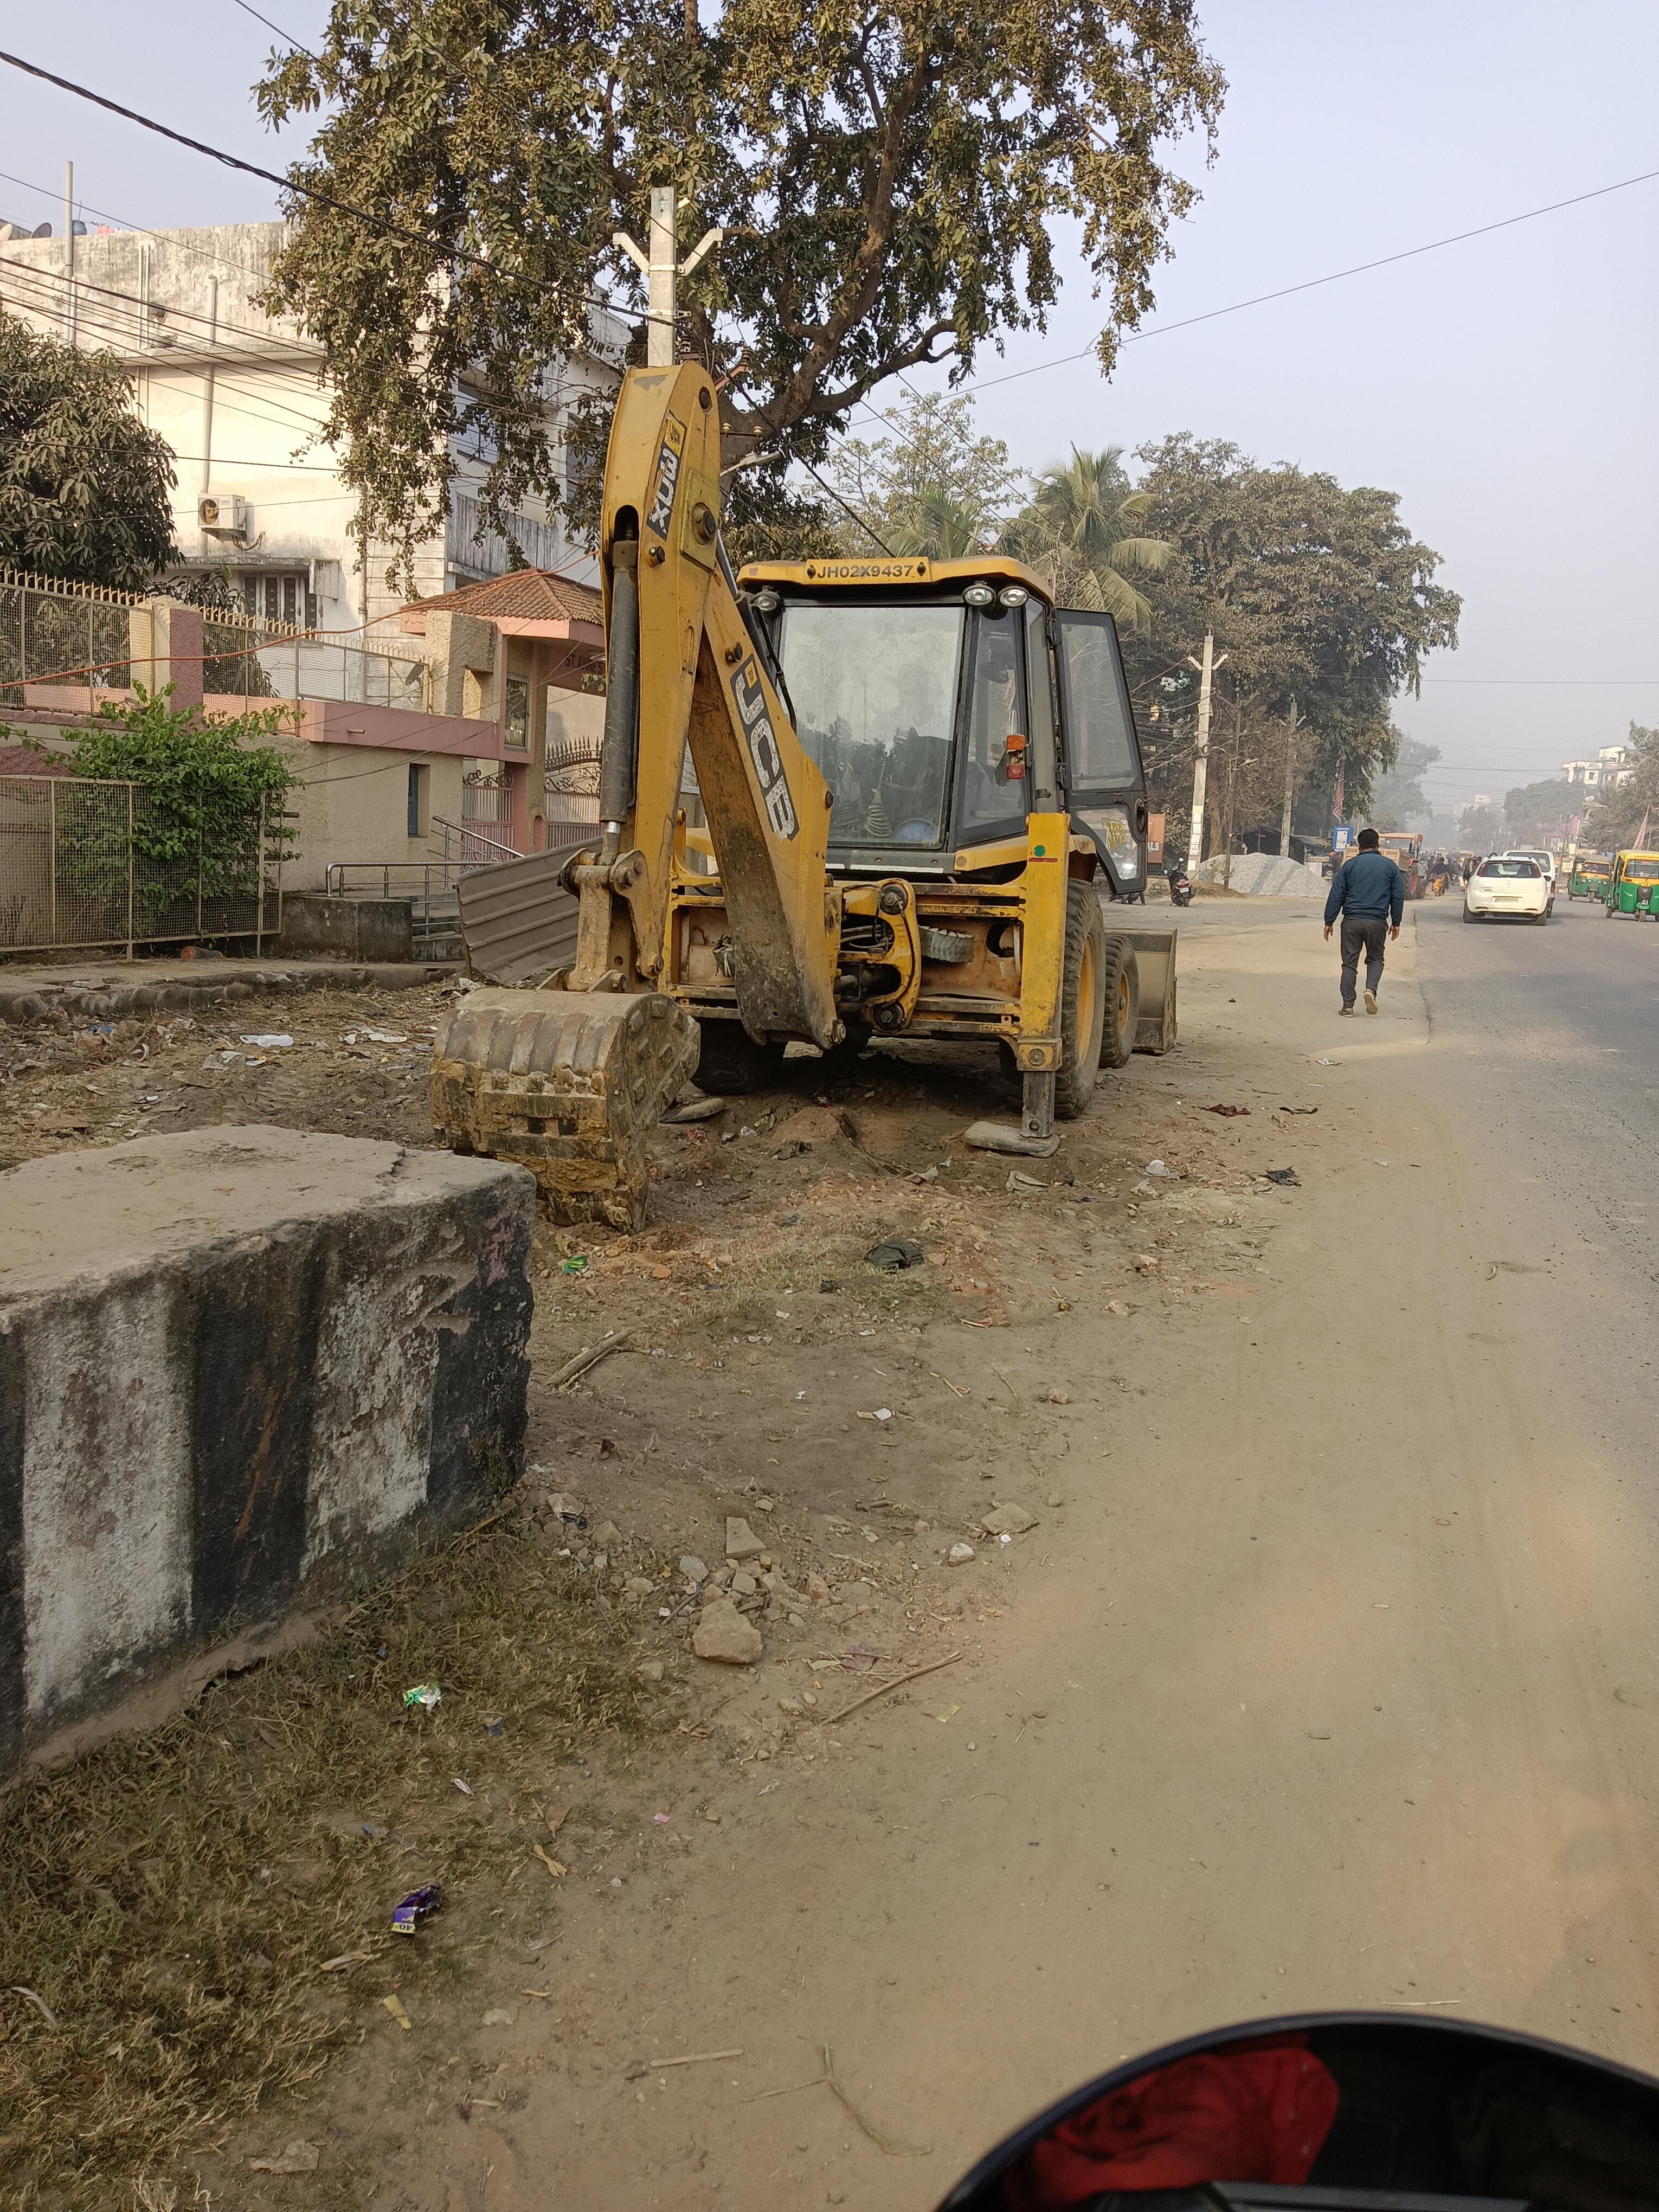excavator: (451, 374, 1126, 1148)
